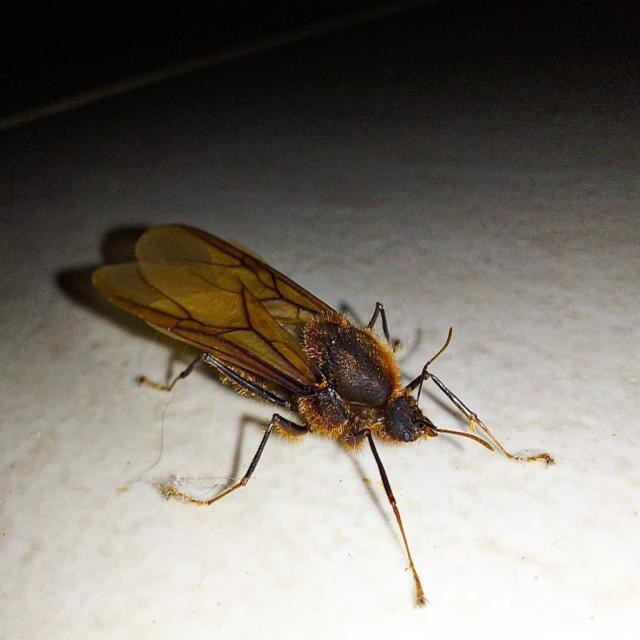Alive-Male-Alate: (90, 221, 557, 610)
